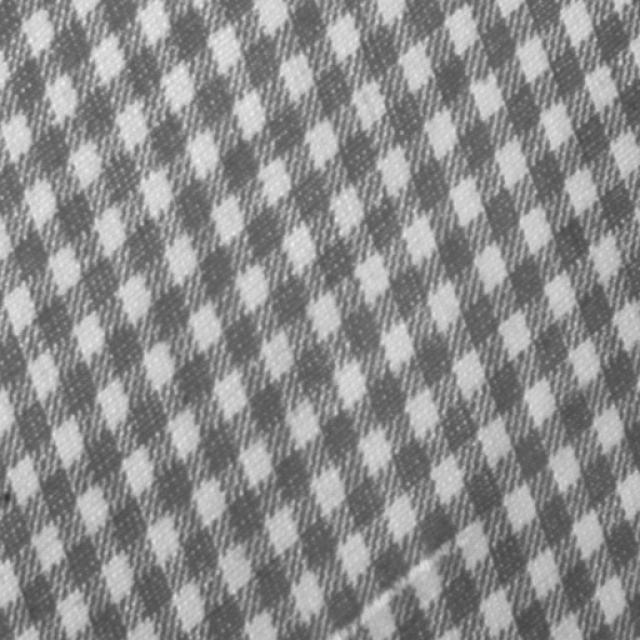Thread-Defect: (319, 543, 455, 639)
